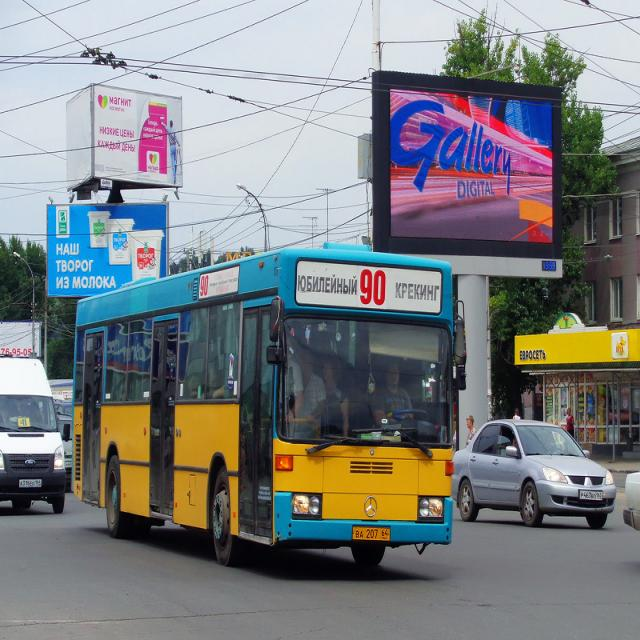number-of-bus: (358, 267, 389, 310), (200, 274, 211, 299)
